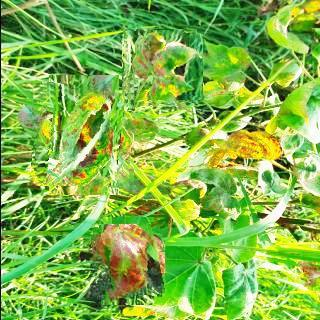blight: (32, 84, 133, 186), (122, 29, 201, 108), (90, 224, 164, 298)
